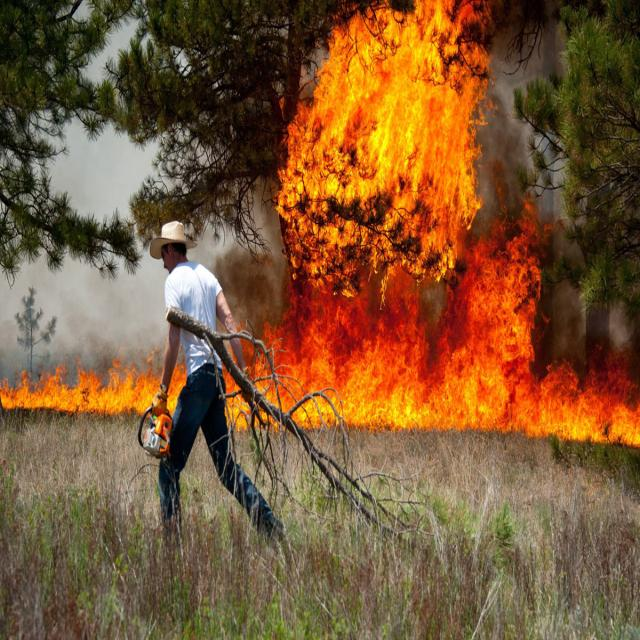Fire: (38, 16, 632, 446)
